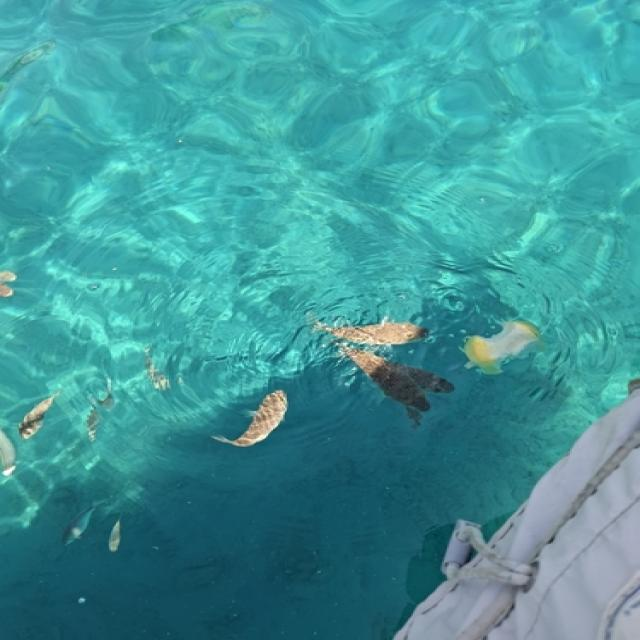Balik: (338, 345, 430, 423), (463, 320, 544, 375), (212, 391, 288, 446), (308, 315, 428, 345), (19, 392, 61, 439), (62, 505, 95, 545), (146, 346, 170, 390), (0, 429, 15, 476), (0, 271, 17, 296), (108, 519, 121, 551)
